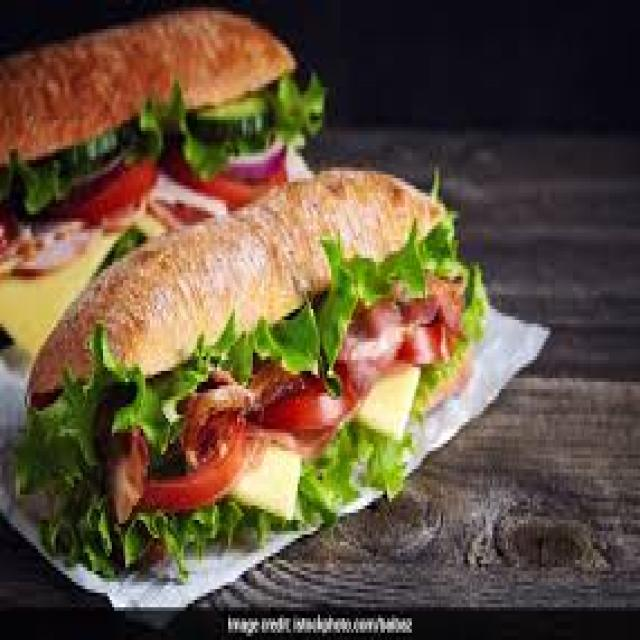Sandwich: (4, 54, 500, 515)
